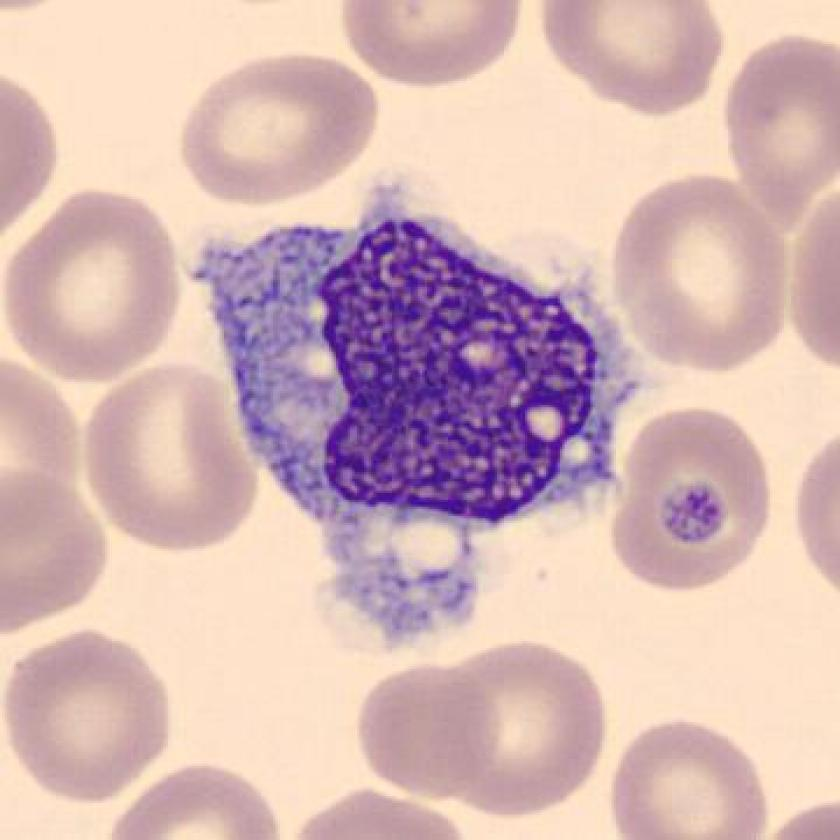monocyte: (171, 158, 664, 663)
